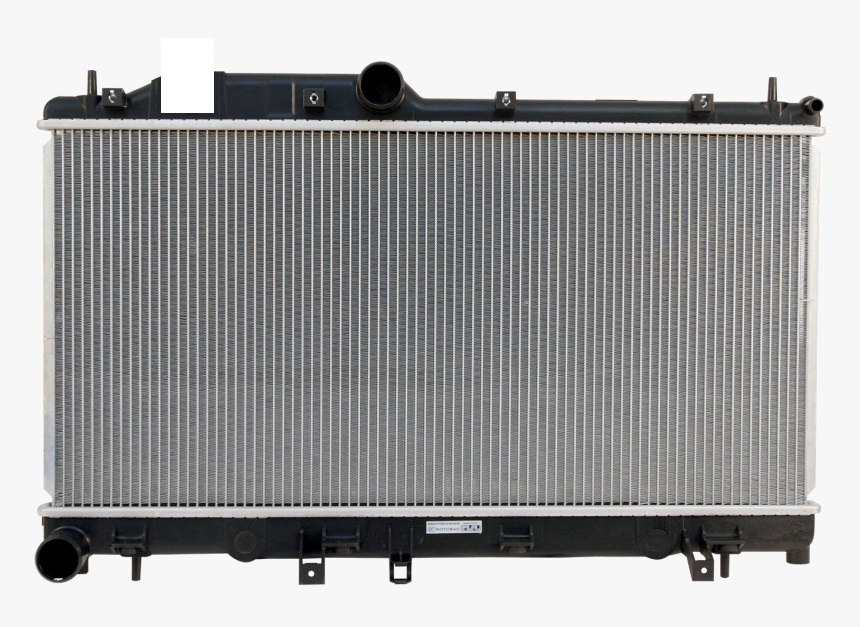c1: (85, 69, 129, 115)
c10: (230, 524, 263, 560)
c11: (296, 525, 364, 586)
c12: (387, 524, 415, 584)
c13: (499, 524, 537, 556)
c14: (681, 526, 748, 581)
c3: (302, 84, 327, 110)
c4: (357, 57, 409, 111)
c5: (495, 90, 519, 112)
c6: (689, 91, 717, 115)
c7: (766, 74, 825, 122)
c8: (34, 525, 90, 585)
c9: (110, 526, 149, 581)
